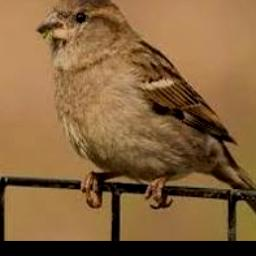Sparrow: (36, 0, 256, 227)
